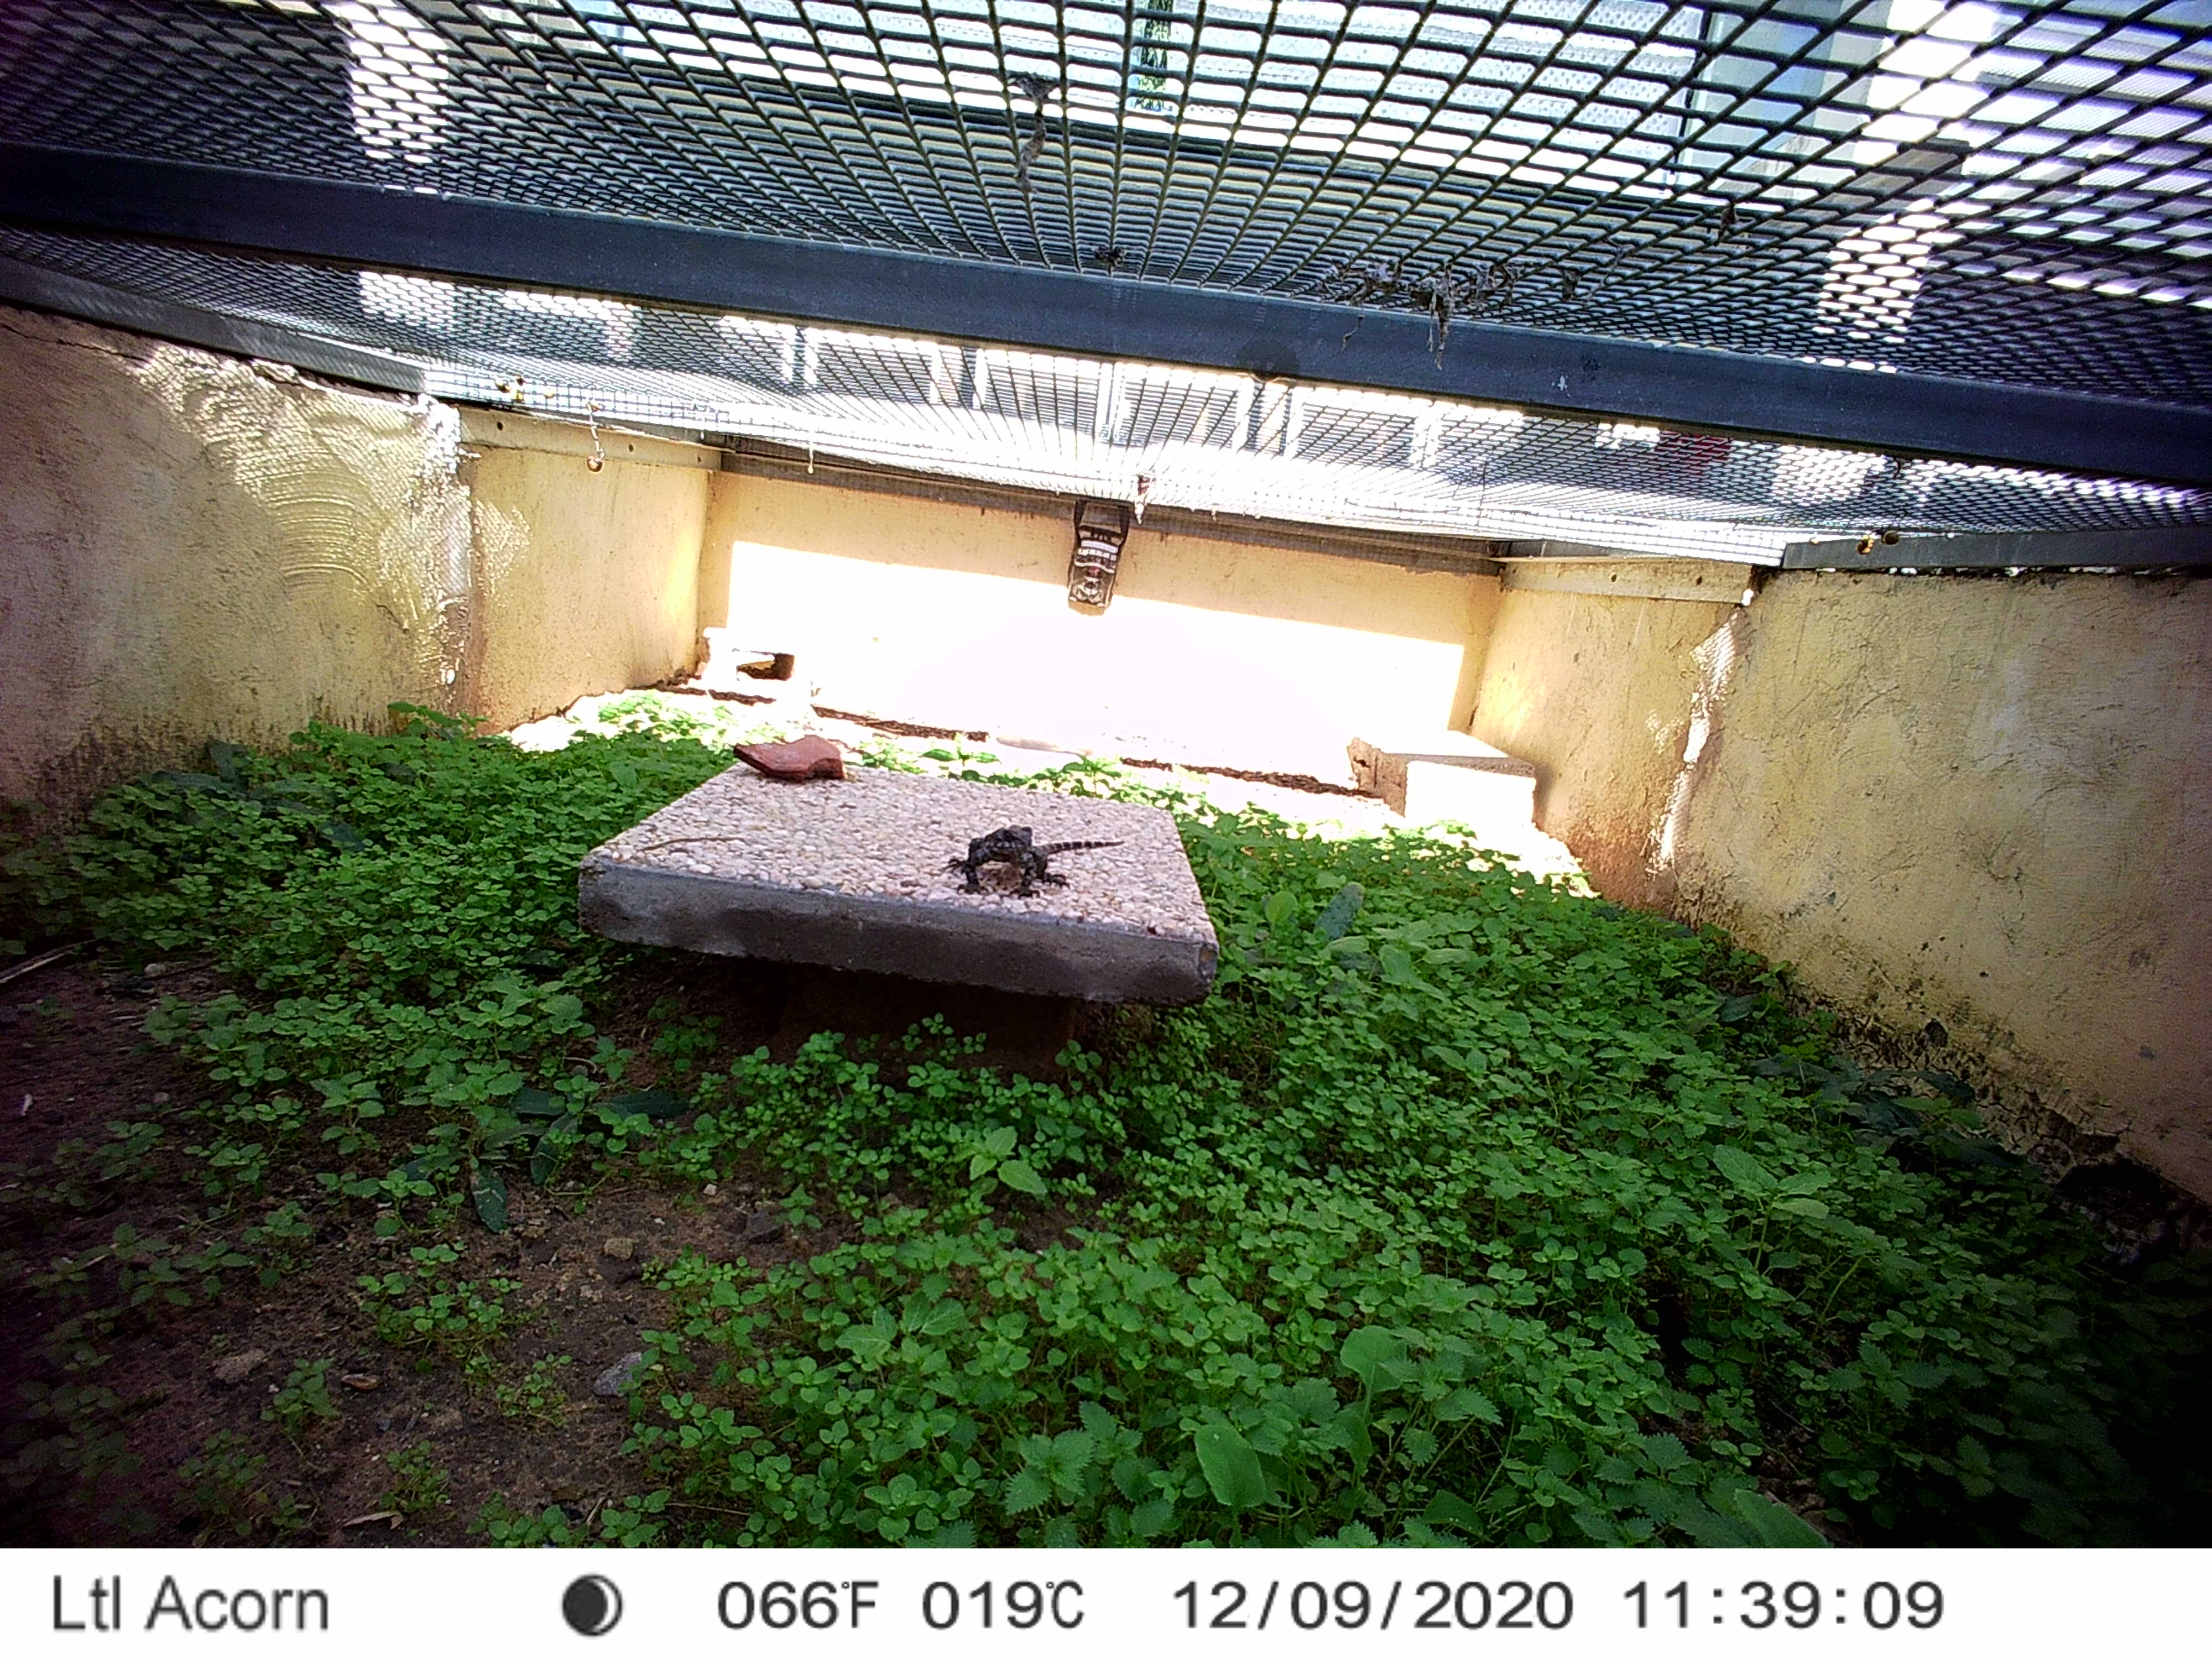lizard: (939, 816, 1134, 897)
